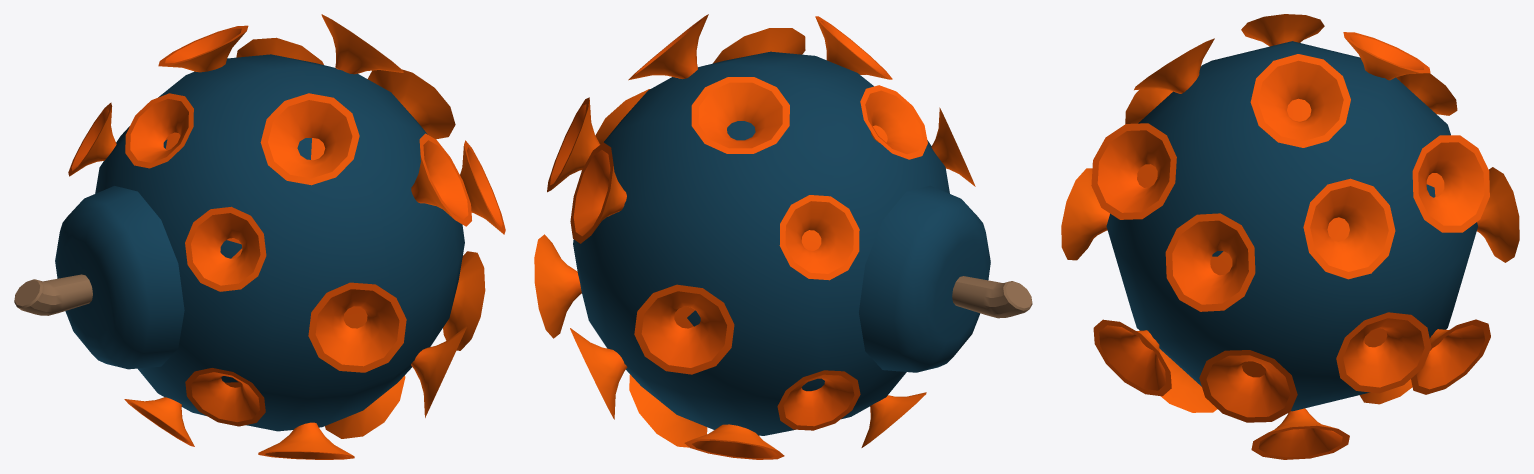
The model's file is bullet of bonce bomb.fbx.
The picture shows the model from 3 angles, left to right: view 1: azimuth 30°, elevation 25°; view 2: azimuth 150°, elevation 25°; view 3: azimuth 270°, elevation 25°; orthographic projection. The views are drawn at different scales.
Visible parts, largest first — view 1: bonce bomb; view 2: bonce bomb; view 3: bonce bomb.
Part boxes in pixels (bbox=[...]): bonce bomb: bbox=[14, 14, 505, 459]; bonce bomb: bbox=[534, 14, 1032, 459]; bonce bomb: bbox=[1061, 14, 1519, 459].
Bounding box in the file's own units: 132 × 116 × 119.
1 material, 1 textured.
